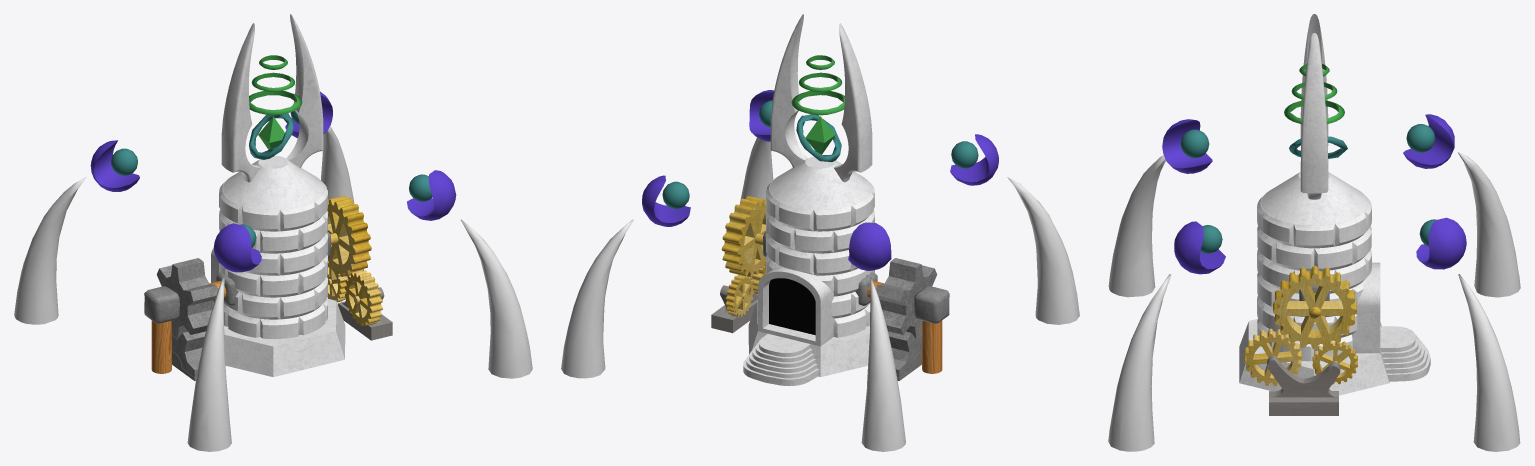
The model's file is temple.fbx.
3 renders of one model, left to right at view 1: azimuth 30°, elevation 25°; view 2: azimuth 150°, elevation 25°; view 3: azimuth 270°, elevation 25°, orthographic. The views are drawn at different scales.
Visible parts, largest first — view 1: temple, horn_4, horn_3, horn_1, left_top_gear, right_large_gear, orb_mount_4, right_med_gear, horn_2, orb_mount_3, orb_mount_1, left_bottom_gear (+7 smaller); view 2: temple, horn_1, horn_2, horn_4, left_top_gear, right_large_gear, orb_mount_1, horn_3, orb_mount_2, orb_mount_4, left_bottom_gear, right_small_gear (+7 smaller); view 3: temple, horn_2, horn_3, right_large_gear, horn_1, horn_4, right_gear_mount, right_med_gear, orb_mount_2, orb_mount_3, orb_mount_4, orb_mount_1 (+6 smaller).
Boxes of the visible parts, <box> form: temple: <box>144,14,345,377</box>; horn_4: <box>187,277,231,451</box>; horn_3: <box>460,219,532,378</box>; horn_1: <box>14,177,86,324</box>; left_top_gear: <box>156,258,217,338</box>; right_large_gear: <box>327,195,371,276</box>; orb_mount_4: <box>214,223,261,272</box>; right_med_gear: <box>344,270,382,325</box>; horn_2: <box>321,126,354,204</box>; orb_mount_3: <box>407,170,456,220</box>; orb_mount_1: <box>90,140,139,191</box>; left_bottom_gear: <box>172,331,205,377</box>; temple: <box>743,14,949,385</box>; horn_1: <box>861,277,905,451</box>; horn_2: <box>561,219,633,378</box>; horn_4: <box>1007,177,1079,324</box>; left_top_gear: <box>876,258,937,338</box>; right_large_gear: <box>721,196,766,277</box>; orb_mount_1: <box>848,223,891,270</box>; horn_3: <box>739,137,773,204</box>; orb_mount_2: <box>642,175,690,226</box>; orb_mount_4: <box>950,134,998,185</box>; left_bottom_gear: <box>888,331,921,377</box>; right_small_gear: <box>725,274,754,317</box>; temple: <box>1239,14,1430,395</box>; horn_2: <box>1458,274,1520,451</box>; horn_3: <box>1108,274,1171,451</box>; right_large_gear: <box>1273,265,1356,349</box>; horn_1: <box>1458,152,1520,297</box>; horn_4: <box>1108,155,1165,297</box>; right_gear_mount: <box>1267,355,1340,415</box>; right_med_gear: <box>1244,328,1301,386</box>; orb_mount_2: <box>1416,217,1466,269</box>; orb_mount_3: <box>1174,221,1225,274</box>; orb_mount_4: <box>1162,119,1212,173</box>; orb_mount_1: <box>1403,114,1454,168</box>.
Bounding box in the file's own units: 270 × 247 × 270.
